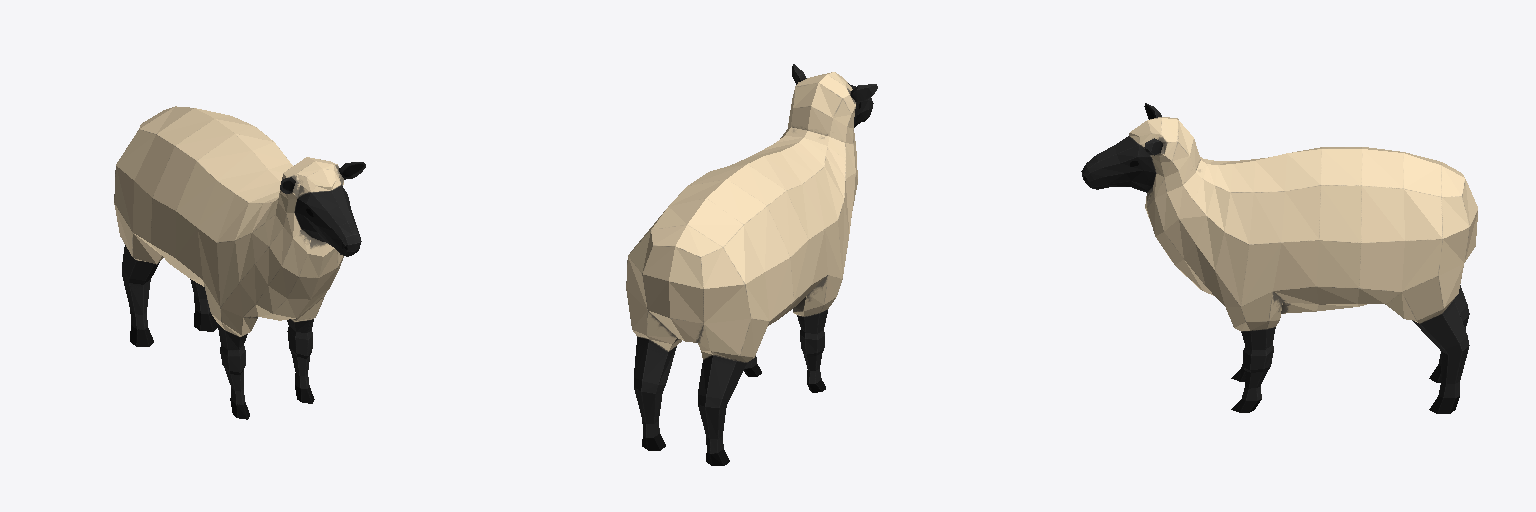
3 renders of one model, left to right at view 1: azimuth 30°, elevation 25°; view 2: azimuth 150°, elevation 25°; view 3: azimuth 270°, elevation 25°, orthographic.
Visible parts, largest first — view 1: Sheep_mesh; view 2: Sheep_mesh; view 3: Sheep_mesh.
Boxes of the visible parts, box(x1,y1,x2,y2) form: Sheep_mesh: box(114, 106, 365, 419); Sheep_mesh: box(626, 64, 877, 465); Sheep_mesh: box(1081, 103, 1477, 413).
Size of the model in its own units: 2.46 by 4.93 by 6.42.
1 materials, 1 textured.